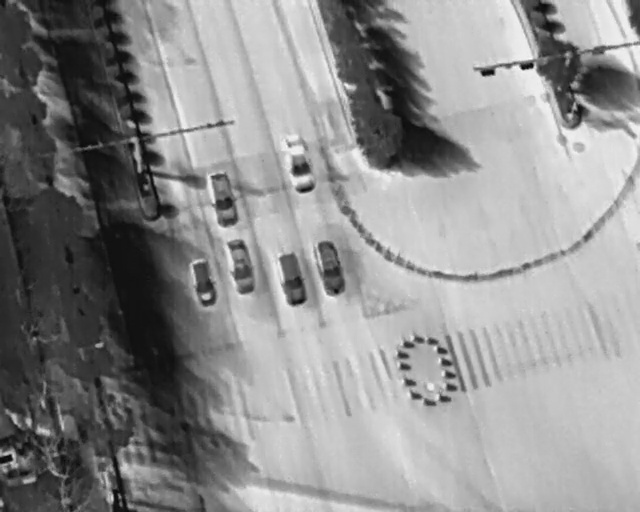Car: (278, 130, 319, 196), (308, 236, 349, 298), (271, 248, 310, 308), (222, 235, 260, 296), (206, 169, 240, 230), (186, 256, 220, 308)
